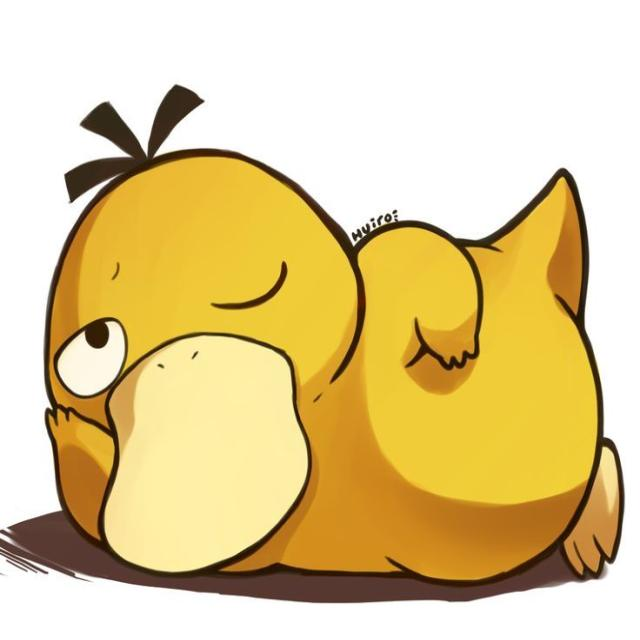Psyduck: (42, 138, 625, 577)
